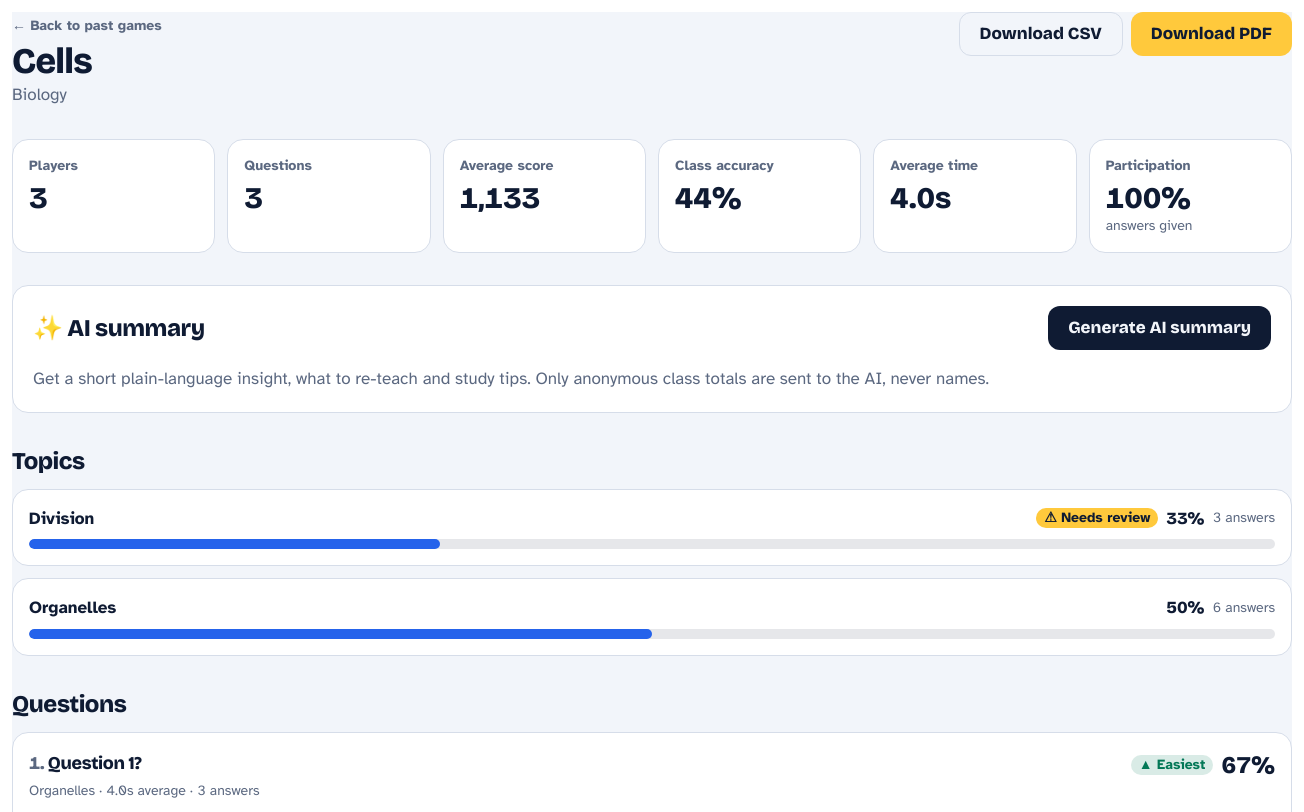
Test case: ReportView › keeps the report visible and shows a clear message when the AI is unavailable
The width and height of the screenshot is (1304, 812).
Step 1. Click the button "Generate AI summary" → (1160, 328), box [1048,306,1271,350]
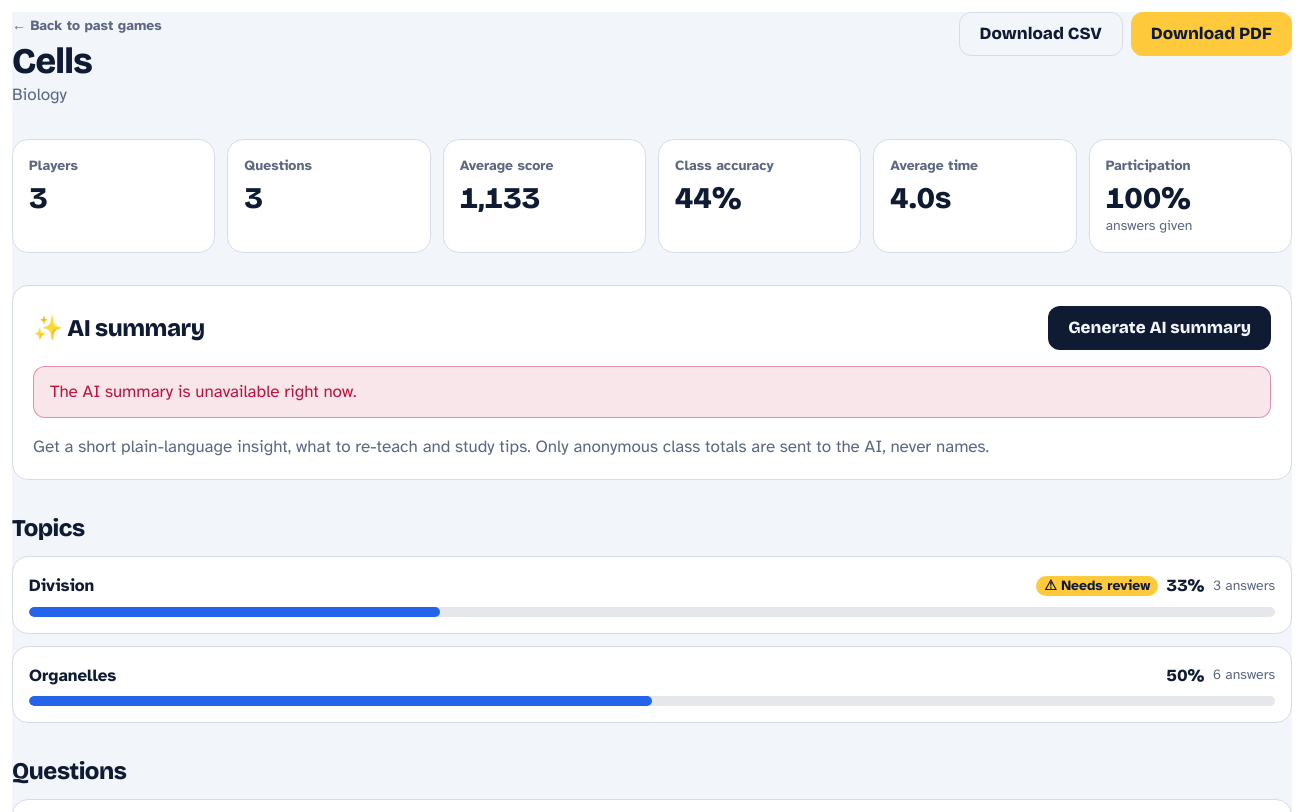
Check: the heading "Cells" is shown, box [12,40,92,82]
Check: the text "The AI summary is unavailable right now." is shown, box [33,366,1271,418]
